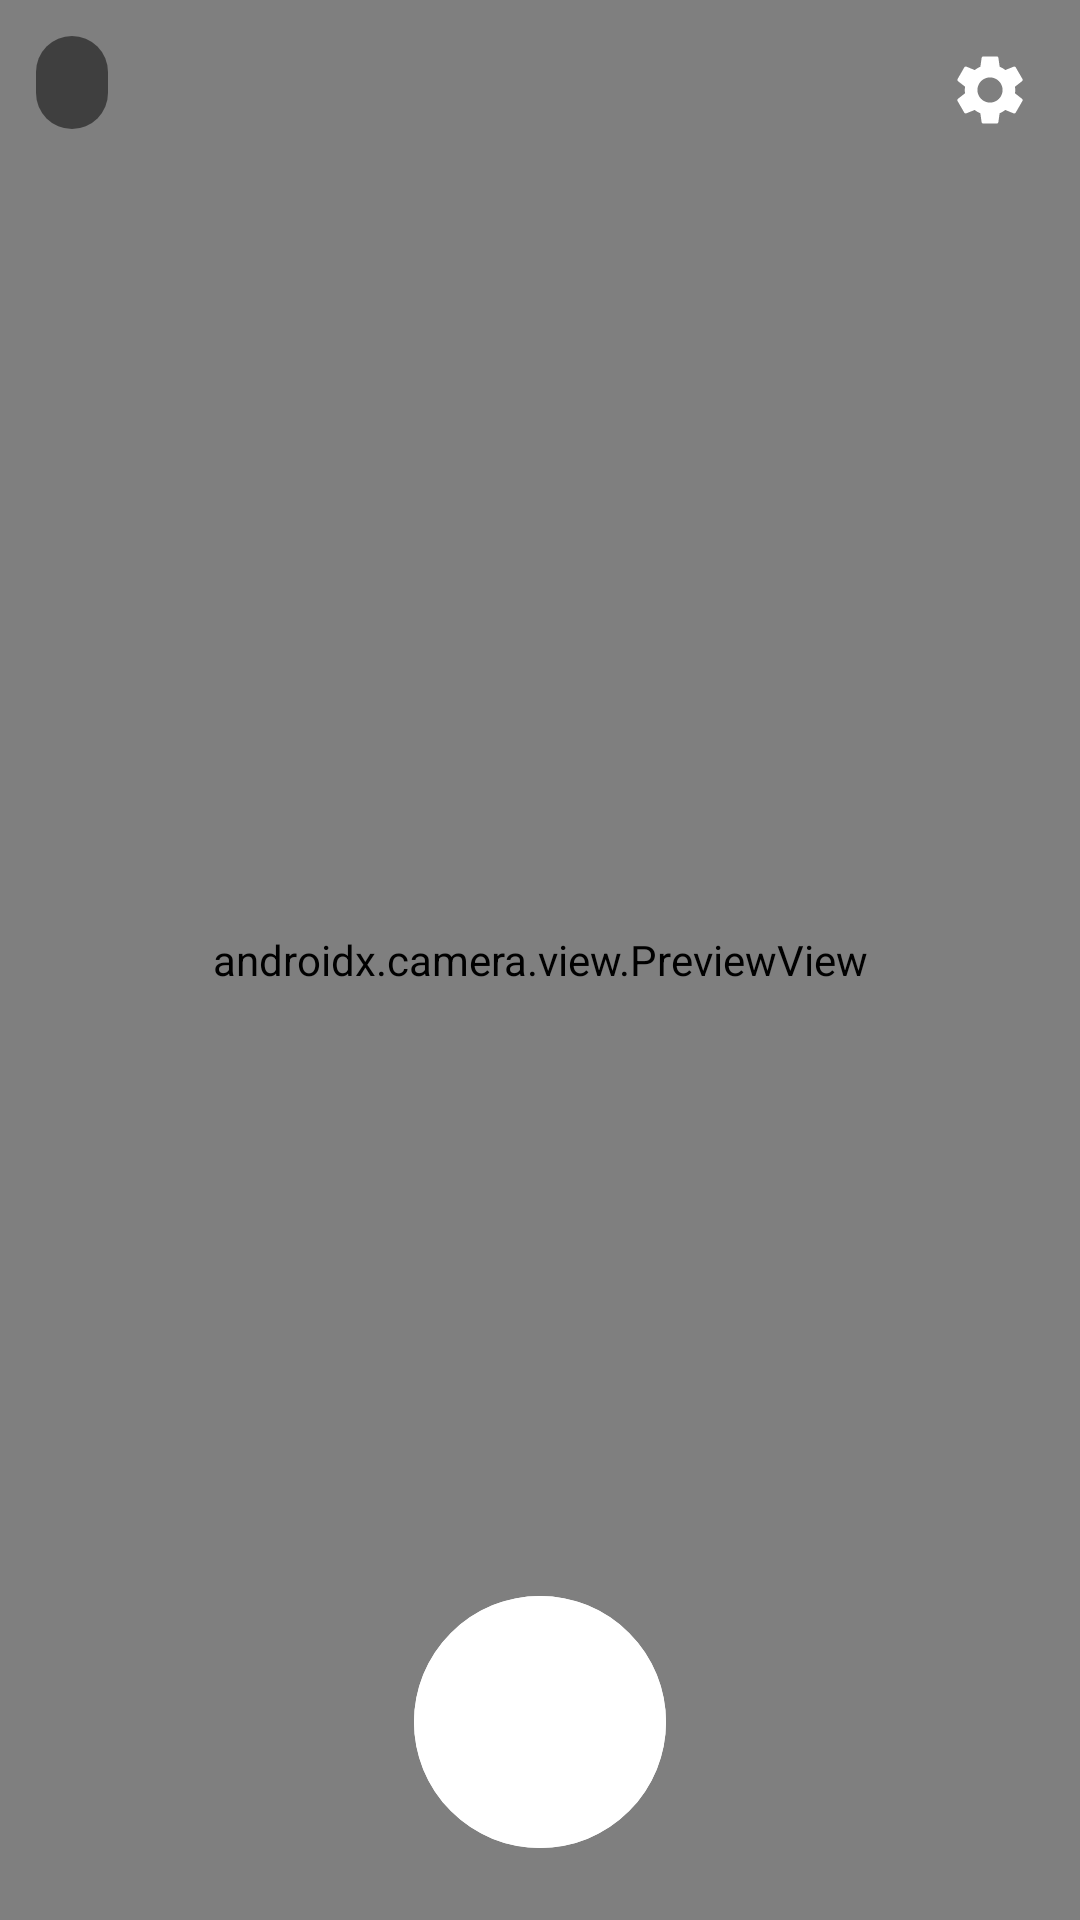

Named icons in this screenshot (1080 x 1920) and their bounding boxes, [x1=x1, y1=y1, x2=x2, y2=y2]:
設定: [x1=957, y1=56, x2=1023, y2=124]
